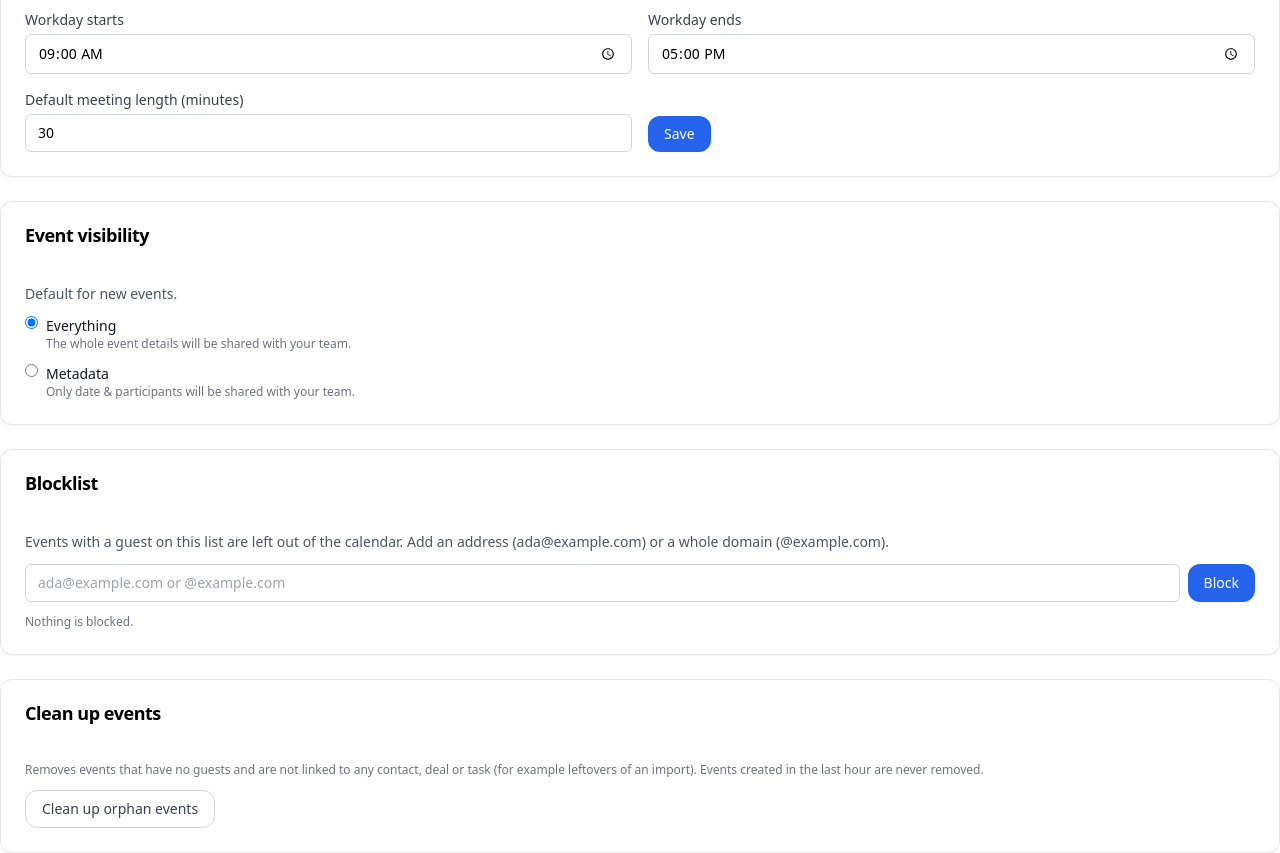
Test: CalendarSettings: clean up events › asks first, then removes orphan events and reports how many
(page scrolled)
What coordinates should you click on to do the following:
click the button "Clean up orphan events"
I would click on:
 (120, 809)
Its box is [25,790,215,828].
(page scrolled)
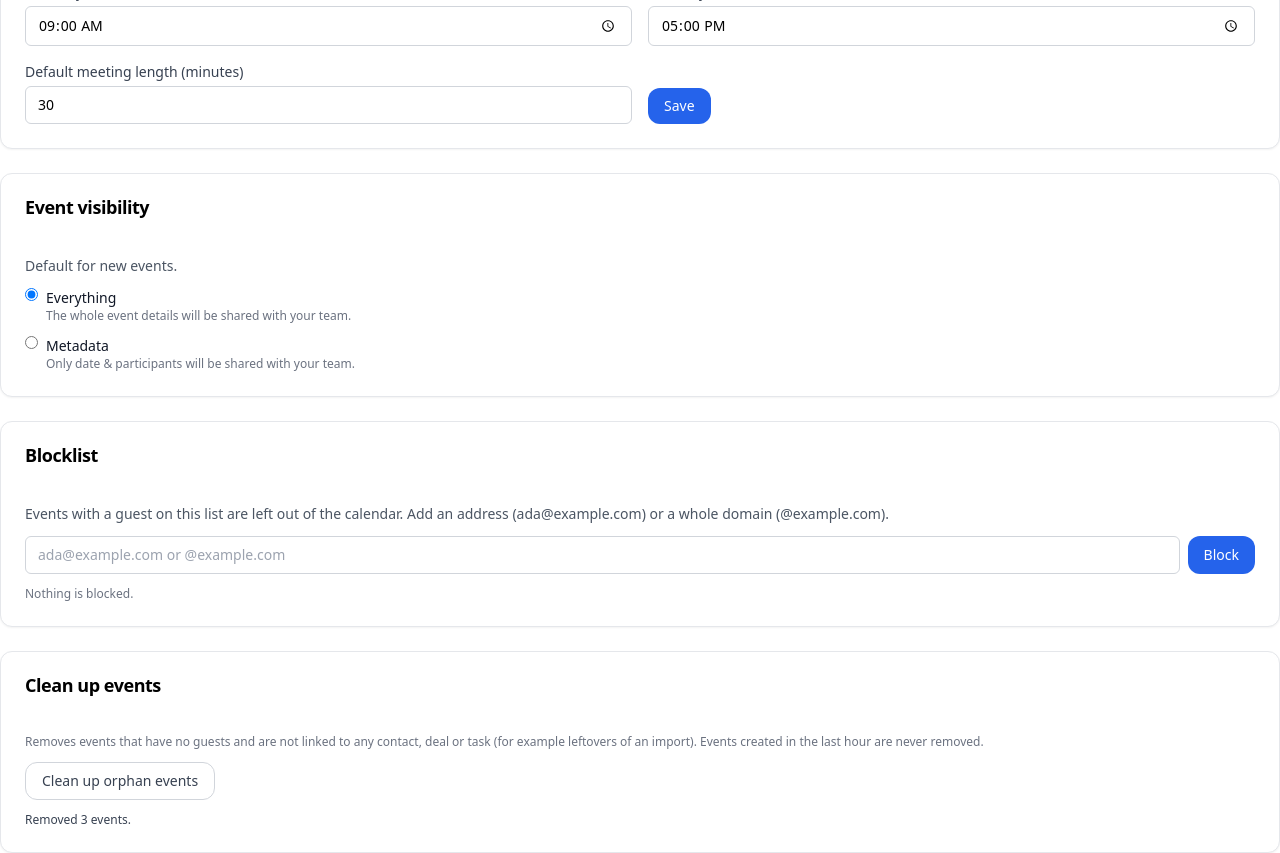
Expected: the text "Removed 3 events." is shown, [25,811,131,828]
